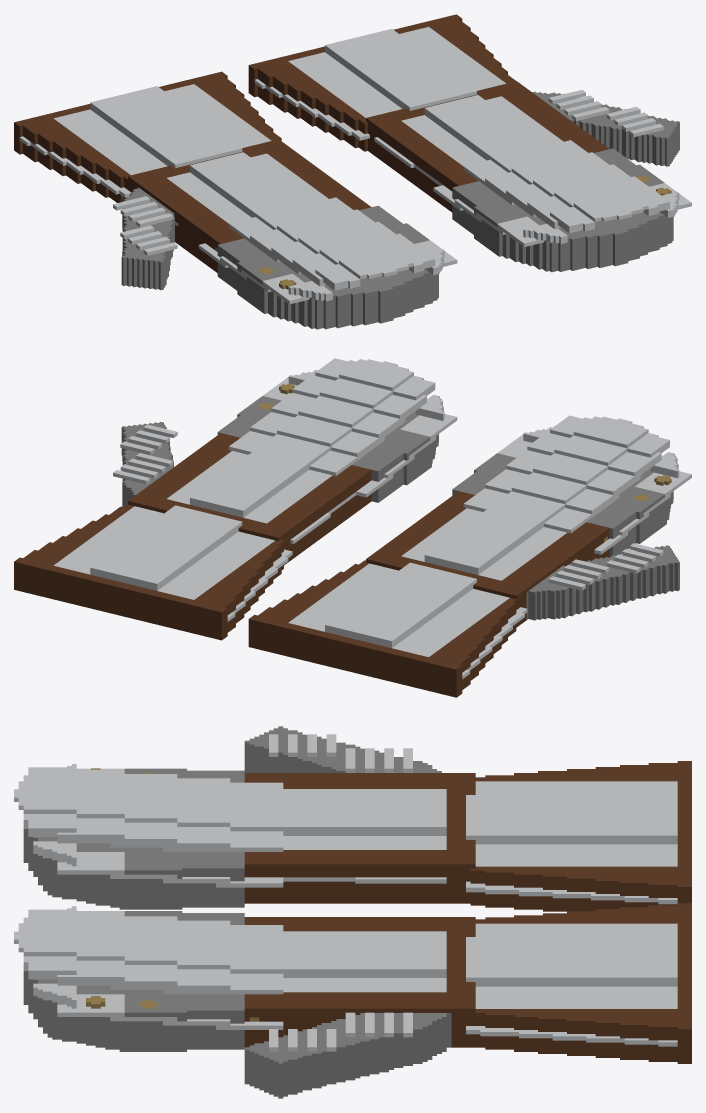
The model's file is lc_mitten_gaunt.glb.
The picture shows the model from 3 angles, top to bottom: view 1: azimuth 30°, elevation 25°; view 2: azimuth 150°, elevation 25°; view 3: azimuth 270°, elevation 25°; orthographic projection. The views are drawn at different scales.
Parts seen in each view (by area): view 1: lc_mitten_gaunt:compound; view 2: lc_mitten_gaunt:compound; view 3: lc_mitten_gaunt:compound.
Boxes of the visible parts, x1=… form: lc_mitten_gaunt:compound: x1=14, y1=14, x2=691, y2=329; lc_mitten_gaunt:compound: x1=14, y1=358, x2=691, y2=697; lc_mitten_gaunt:compound: x1=14, y1=726, x2=691, y2=1098.
Size of the model in its own units: 0.332 by 0.03 by 0.282.
